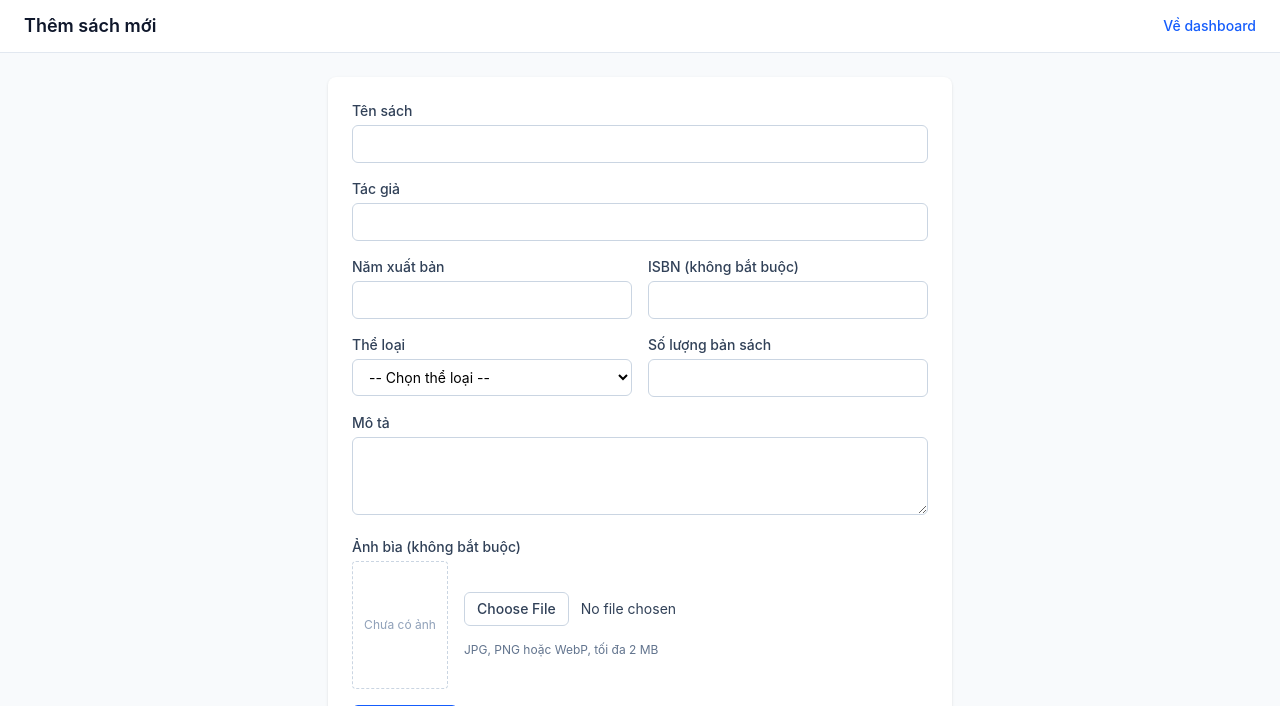
Test: AddBookPage (2.2.2) › validate ở client: báo lỗi theo field, không gọi API
Type "1800" into the field labelled "Năm xuất bản" at (492, 300), box x1=352 y1=281 x2=632 y2=319
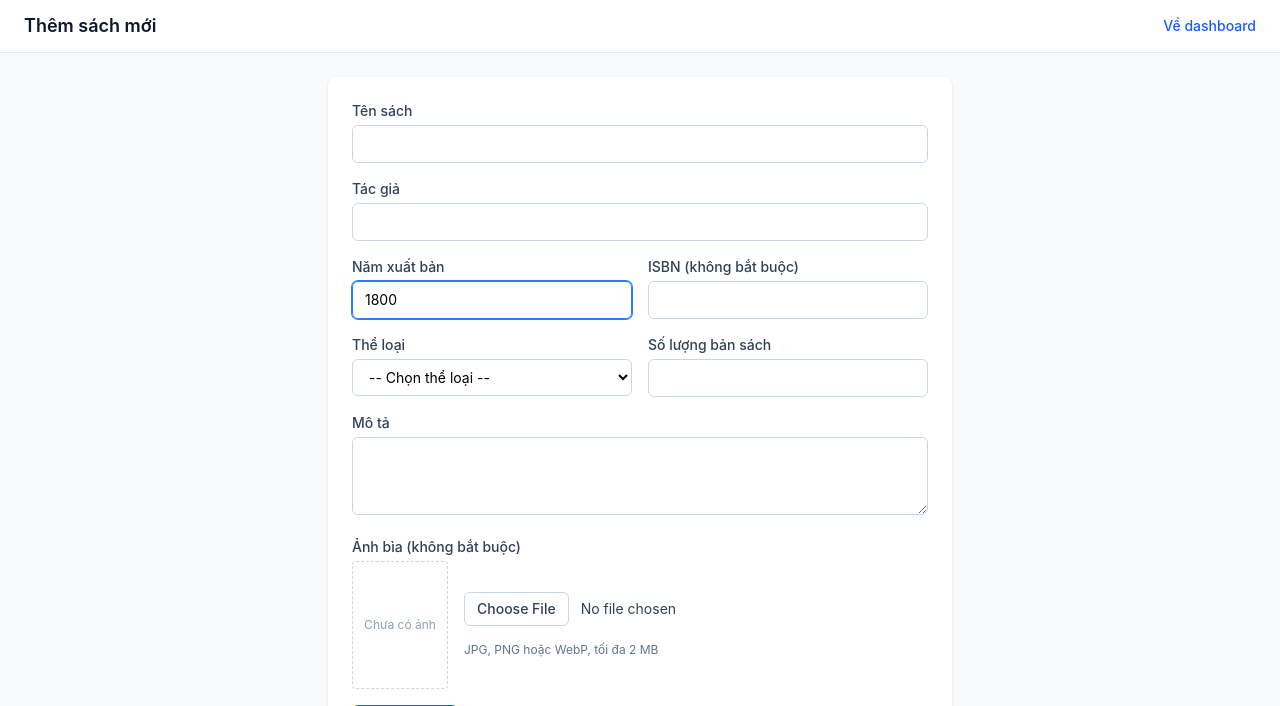
Type "123" into the field labelled "ISBN (không bắt buộc)" at (788, 300), box x1=648 y1=281 x2=928 y2=319
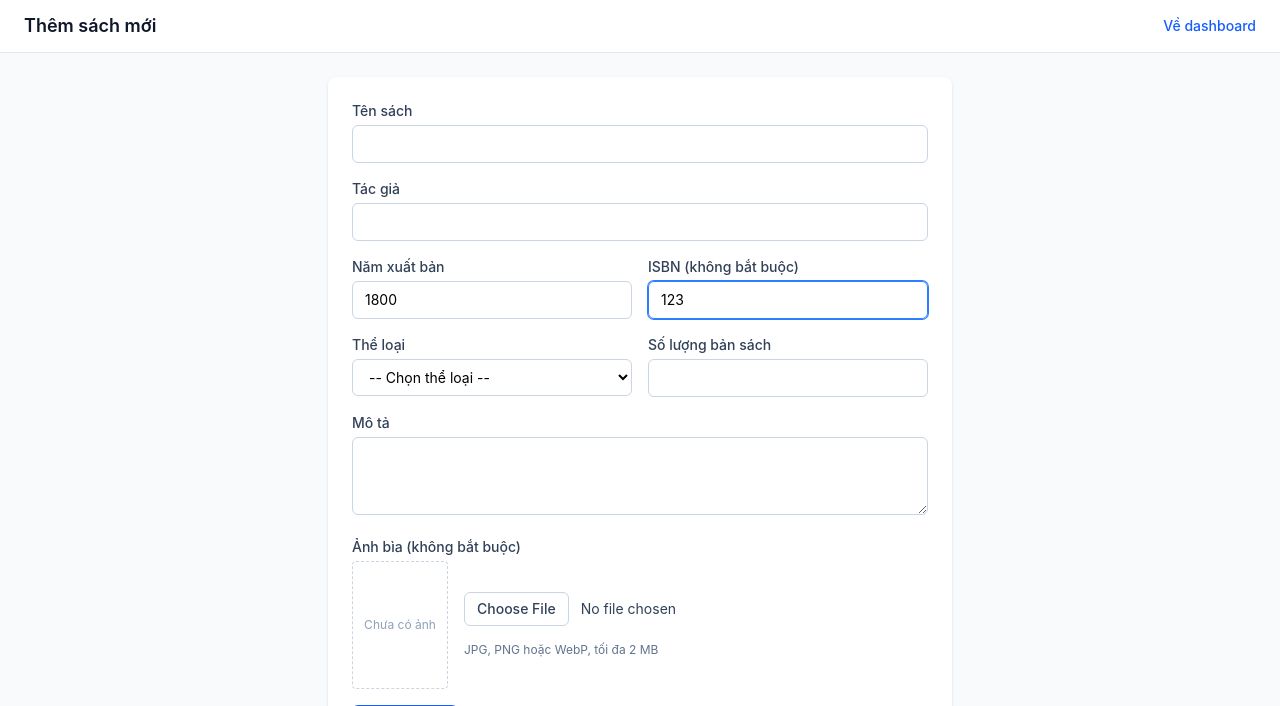
Type "0" into the field labelled "Số lượng bản sách" at (788, 378), box x1=648 y1=359 x2=928 y2=397
(page scrolled)
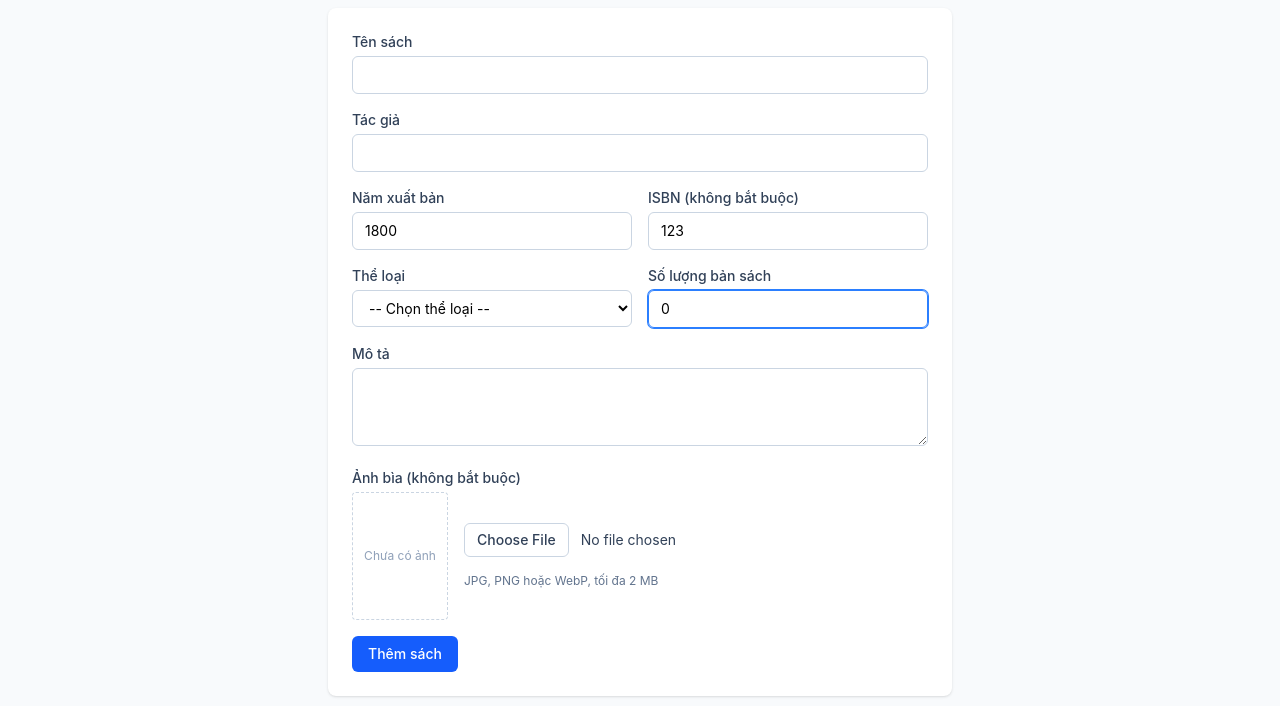
Click the button "Thêm sách" at (405, 654), box x1=352 y1=636 x2=458 y2=672
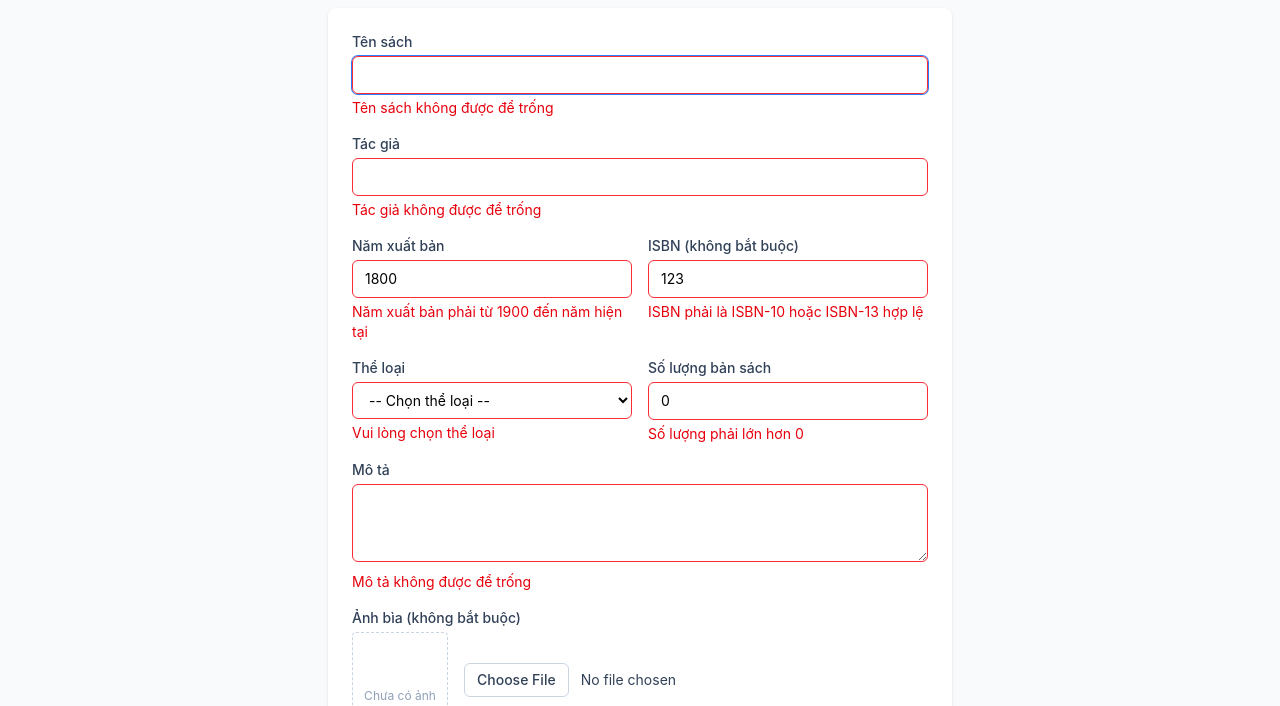
Check: the text "Tên sách không được để trống" is shown, box x1=352 y1=99 x2=554 y2=116
Check: the text "Tác giả không được để trống" is shown, box x1=352 y1=201 x2=541 y2=218
Check: the text "Năm xuất bản phải từ 1900 đến năm hiện tại" is shown, box x1=352 y1=302 x2=632 y2=342
